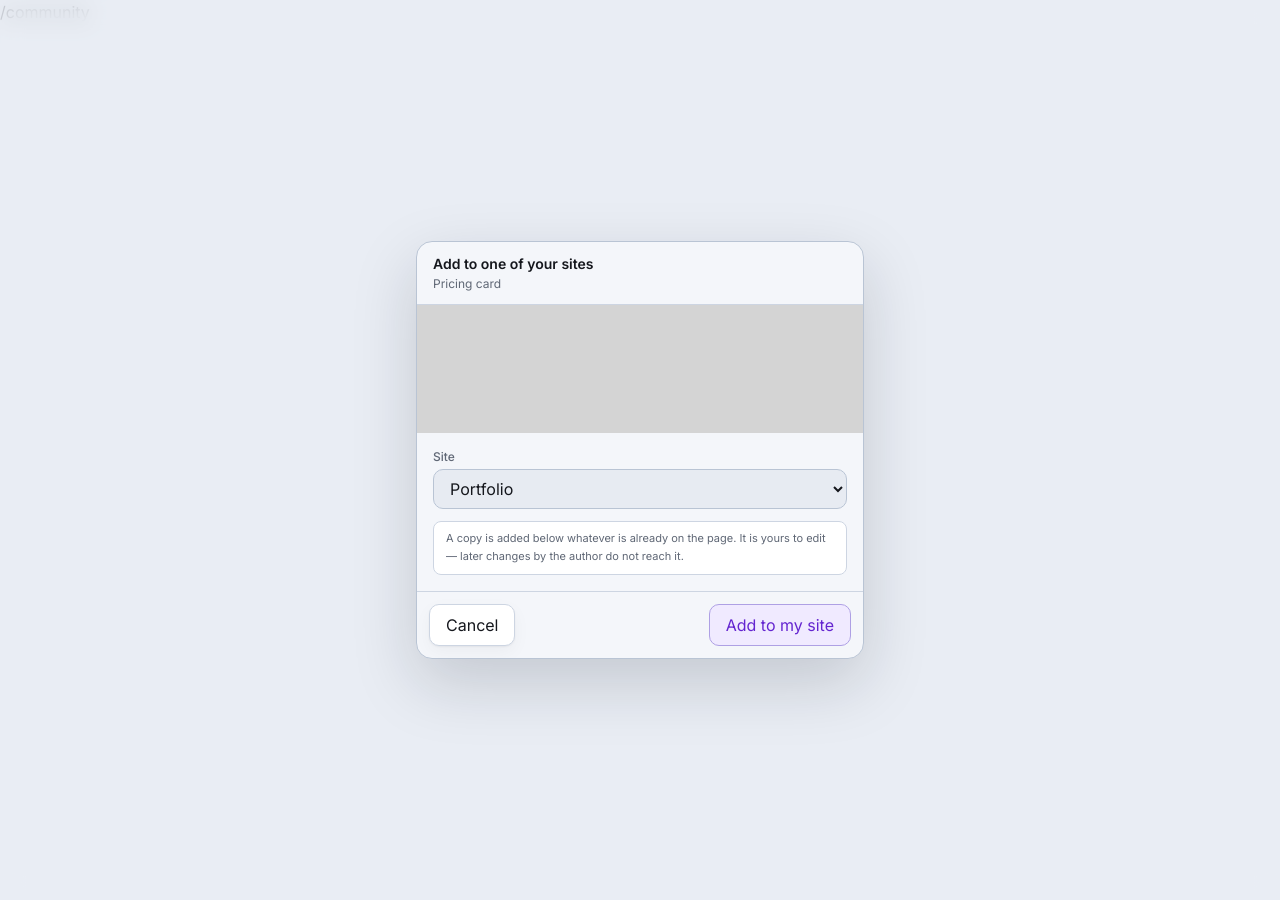
Test: adding it › stays put and says why when the server refuses
Check: the dropdown labelled "Site" is shown, box x1=433 y1=469 x2=847 y2=509
What coordinates should you click on to do the following:
click the button "Add to my site"
I would click on:
 (780, 625)
Its box is x1=709 y1=604 x2=851 y2=646.
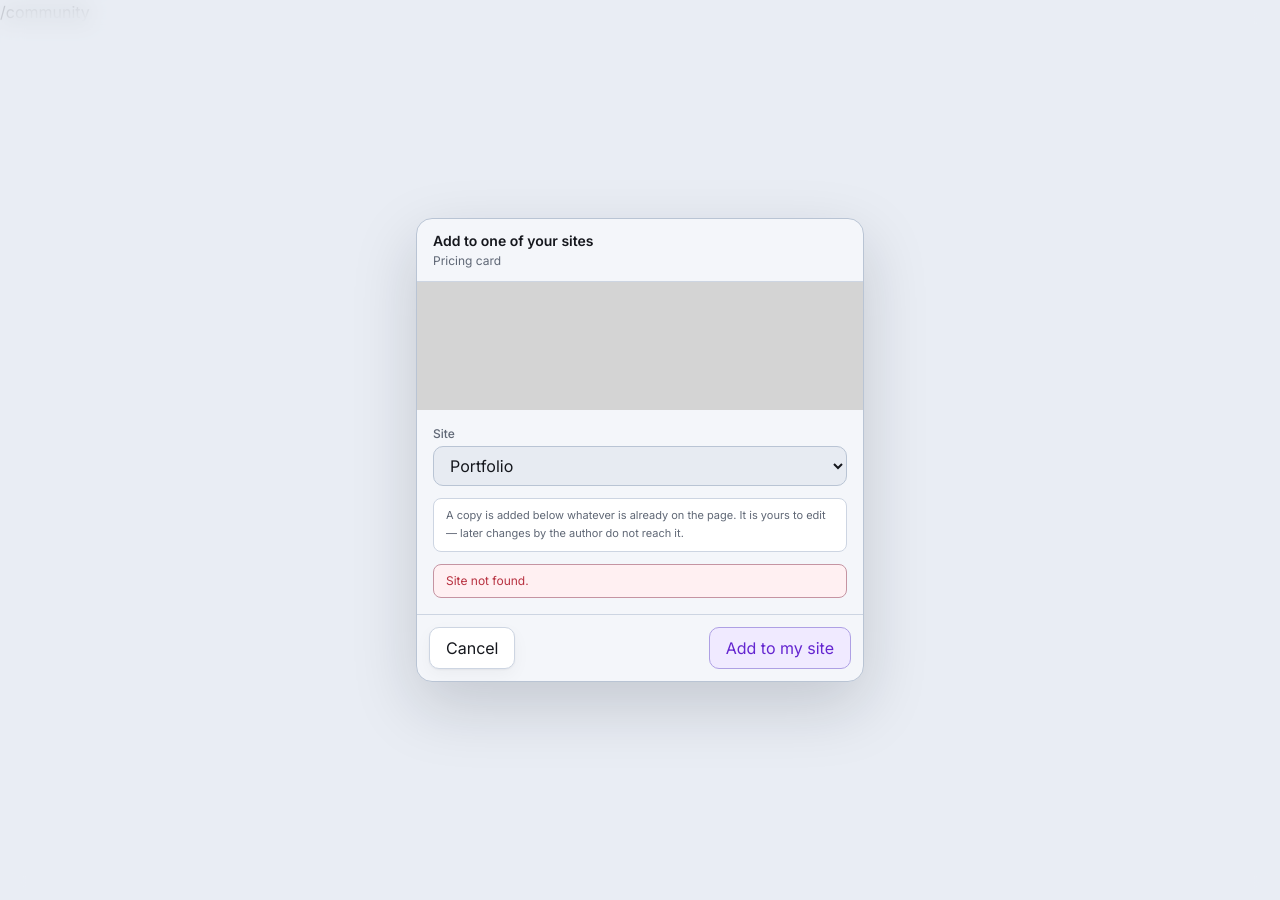
Check: the text with test id "path" reads "/community", box x1=0 y1=2 x2=90 y2=22
Check: the message reads "Site not found.", box x1=446 y1=573 x2=529 y2=588
